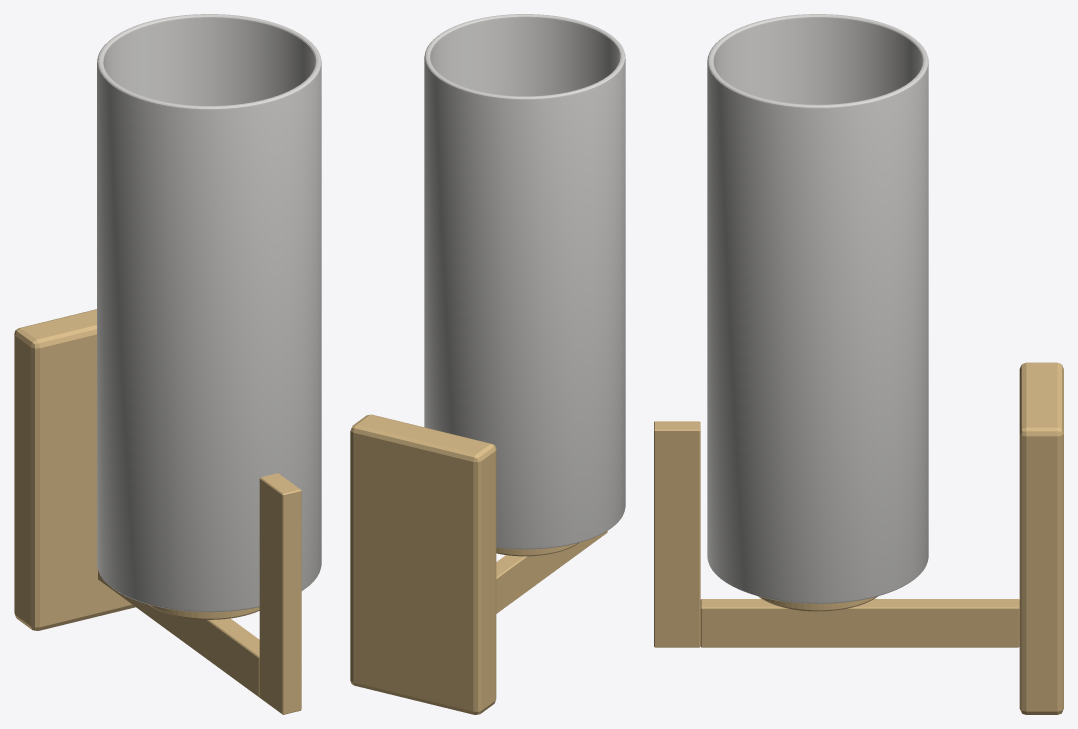
3 renders of one model, left to right at view 1: azimuth 30°, elevation 25°; view 2: azimuth 150°, elevation 25°; view 3: azimuth 270°, elevation 25°, orthographic. The views are drawn at different scales.
Visible parts, largest first — view 1: shade, cup; view 2: shade, cup; view 3: shade, cup.
Boxes of the visible parts, x1,y1,x2,y2 form: shade: (97,14,321,612); cup: (14,309,301,714); shade: (424,14,625,549); cup: (350,414,607,714); shade: (707,14,928,603); cup: (654,362,1063,714).
Bounding box in the file's own units: 0.1 × 0.31 × 0.185.
